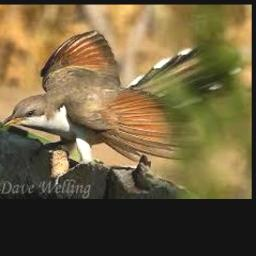Cuckoo: (0, 30, 240, 164)
